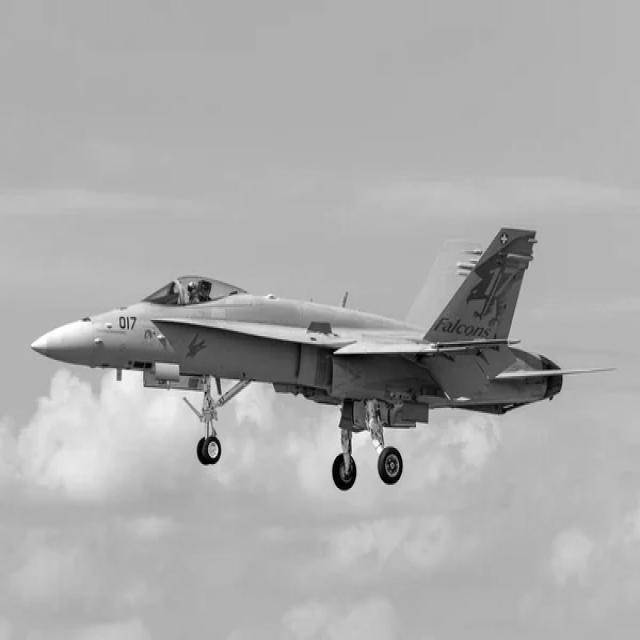Aircraft: (29, 222, 592, 492)
